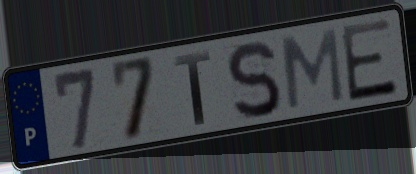7: (110, 54, 160, 145), (50, 64, 100, 152)
E: (337, 15, 400, 105)
M: (278, 25, 347, 112)
S: (223, 38, 284, 123)
T: (171, 48, 213, 128)
